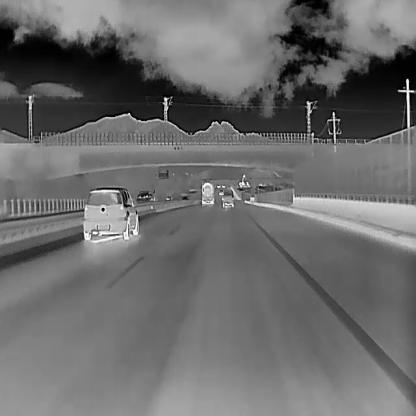car: (82, 186, 138, 240), (136, 189, 156, 207), (221, 189, 233, 207), (217, 188, 224, 196), (164, 195, 173, 201), (181, 195, 188, 201), (214, 182, 220, 187), (221, 182, 225, 187)
truck: (200, 180, 215, 206)
